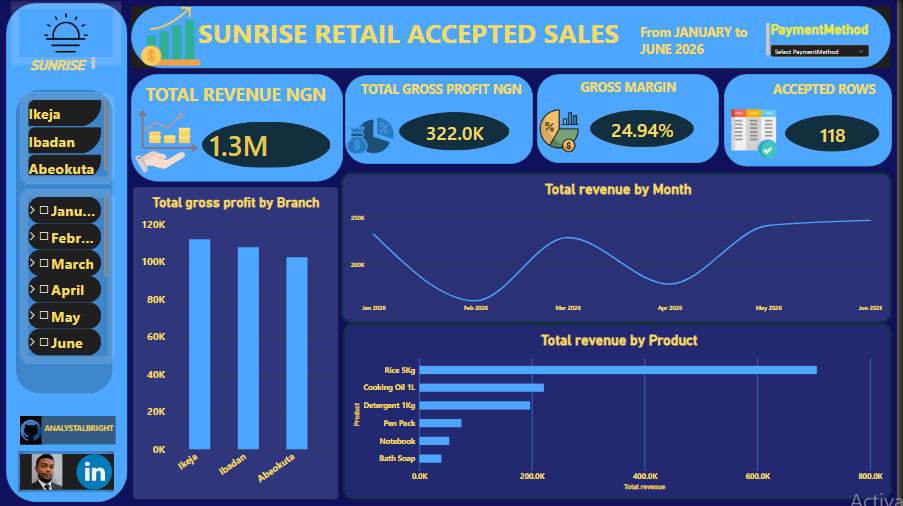

Layout of this report page (visuals, bound fields, positions):
{"tool":"powerbi","page":{"name":"Page 1","canvas":[1920,1080],"ordinal":0},"visuals":[{"type":"shape","box":[25,8.3,258.3,1061.1],"z":0,"group":"g19"},{"type":"shape","box":[289.1,15.2,1615.2,132.6],"z":1,"group":"g20"},{"type":"shape","box":[291,159.7,451.1,228.9],"z":2,"group":"g5"},{"type":"shape","box":[1551.7,160,357.5,196.5],"z":3,"group":"g3"},{"type":"shape","box":[1153.7,159.5,386.7,189.4],"z":4,"group":"g2"},{"type":"shape","box":[746,161,399.7,189.2],"z":5,"group":"g1"},{"type":"textbox","box":[416,34.7,929.1,85],"z":6,"group":"g20"},{"type":"image","box":[52.3,21.7,200,101.6],"z":7,"group":"g15"},{"type":"image","box":[295.6,233.5,142.2,137.8],"z":8,"group":"g5"},{"type":"image","box":[746.5,221,108.9,140],"z":10,"group":"g1"},{"type":"textbox","box":[280.5,177.2,455,99.9],"z":11,"group":"g5"},{"type":"image","box":[1146.8,231.3,107.5,97.3],"z":12,"group":"g2"},{"type":"image","box":[211.1,16.6,325,125],"z":13,"group":"g20"},{"type":"image","box":[1544.4,219.8,138.4,126.7],"z":14,"group":"g3"},{"type":"group","id":"g1","title":"Group 2","box":[746,161,399.7,200],"z":16,"group":"g10"},{"type":"group","id":"g2","title":"Group 3","box":[1146.8,159.5,393.6,189.4],"z":17,"group":"g9"},{"type":"group","id":"g3","title":"Group 4","box":[1544.4,160,364.8,196.5],"z":18,"group":"g8"},{"type":"textbox","box":[780,171.1,375.6,75.6],"z":19,"group":"g10"},{"type":"textbox","box":[1177.5,167.9,340.4,49.8],"z":20,"group":"g9"},{"type":"textbox","box":[1653.9,173.2,229.3,80.6],"z":21,"group":"g8"},{"type":"group","id":"g4","title":"Group 5","box":[1146.8,159.5,393.6,189.4],"z":22,"group":"g7"},{"type":"actionButton","box":[102.6,886.9,156.5,59.7],"z":24,"group":"g14"},{"type":"group","id":"g5","title":"Group 1","box":[280.5,159.7,461.6,228.9],"z":25,"group":"g11"},{"type":"cardVisual","fields":{"Data":["sales.Total revenue"]},"box":[442.2,262.4,273.3,97.8],"z":26,"group":"g11"},{"type":"group","id":"g6","title":"Group 6","box":[280.5,159.7,461.6,228.9],"z":27,"group":"g21"},{"type":"textbox","box":[1372.7,51.7,276.4,78.7],"z":28,"group":"g20"},{"type":"cardVisual","fields":{"Data":["sales.Total gross profit"]},"box":[860,240,235.6,82.2],"z":29,"group":"g10"},{"type":"cardVisual","fields":{"Data":["sales.Gross margin"]},"box":[1265,235.3,221.7,79.2],"z":30,"group":"g7"},{"type":"cardVisual","fields":{"Data":["sales.Accepted rows"]},"box":[1680.1,247.7,202,78.9],"z":31,"group":"g8"},{"type":"image","box":[55.5,886.3,46.4,60.7],"z":33,"group":"g14"},{"type":"clusteredBarChart","fields":{"Category":["sales.Product"],"Y":["sales.Total revenue"]},"box":[742.2,688.9,1166.7,375.6],"z":34,"group":"g21"},{"type":"shape","box":[46.7,194.1,205.4,644.6],"z":35,"group":"g17"},{"type":"lineChart","title":"Total revenue by Month","fields":{"Category":["sales.MonthStart"],"Y":["sales.Total revenue"]},"box":[737.8,366.6,1171.1,322.2],"z":36,"group":"g21"},{"type":"group","id":"g7","title":"Group 7","box":[1146.8,159.5,393.6,189.4],"z":37,"group":"g21"},{"type":"group","id":"g8","title":"Group 8","box":[1544.4,160,364.4,197.8],"z":38,"group":"g21"},{"type":"group","id":"g9","title":"Group 9","box":[1146.8,159.5,393.6,189.4],"z":39,"group":"g4"},{"type":"group","id":"g10","title":"Group 10","box":[746,161,409.6,200],"z":39,"group":"g21"},{"type":"group","id":"g11","title":"Group 11","box":[280.5,159.7,461.6,228.9],"z":40,"group":"g6"},{"type":"clusteredColumnChart","fields":{"Category":["sales.Branch"],"Y":["sales.Total gross profit"]},"box":[295.7,400,436.2,663.8],"z":40,"group":"g21"},{"type":"listSlicer","fields":{"Values":["sales.Branch"]},"box":[54.4,199.1,204.3,195.7],"z":41,"group":"g16"},{"type":"listSlicer","fields":{"Values":["sales.MonthStart.Variation.Date Hierarchy.Month","sales.MonthStart.Variation.Date Hierarchy.Day"]},"box":[54.4,405.2,204.1,372],"z":42,"group":"g16"},{"type":"shape","box":[50,961.1,204.1,87.2],"z":43,"group":"g12"},{"type":"image","box":[53.4,967,114.8,76],"z":44,"group":"g12"},{"type":"group","id":"g12","title":"Group 12","box":[50,961.1,204.1,87.2],"z":45,"group":"g13"},{"type":"image","box":[169.1,966.7,85,76],"z":46,"group":"g13"},{"type":"listSlicer","fields":{"Values":["sales.PaymentMethod"]},"box":[1634.2,34.7,242.4,95.7],"z":47,"group":"g20"},{"type":"group","id":"g13","title":"Group 13","box":[50,961.1,202.8,86.1],"z":48,"group":"g19"},{"type":"textbox","box":[101.6,880.6,156.5,50],"z":49,"group":"g14"},{"type":"textbox","box":[74.9,123.3,138.7,29],"z":50,"group":"g15"},{"type":"group","id":"g14","title":"Group 14","box":[55.5,880.6,202.8,66.7],"z":51,"group":"g18"},{"type":"group","id":"g15","title":"Group 15","box":[52.3,21.7,200,130.6],"z":52,"group":"g18"},{"type":"group","id":"g16","title":"Group 16","box":[54.4,199.1,204.3,578.1],"z":53,"group":"g17"},{"type":"group","id":"g17","title":"Group 17","box":[46.7,194.1,212,644.6],"z":54,"group":"g18"},{"type":"group","id":"g18","title":"Group 18","box":[46.7,21.7,212,925.5],"z":55,"group":"g19"},{"type":"group","id":"g19","title":"Group 19","box":[25,8.3,258.3,1061.1],"z":56,"group":"g21"},{"type":"group","id":"g20","title":"Group 20","box":[211.1,15.2,1693.2,132.6],"z":57,"group":"g21"},{"type":"group","id":"g21","title":"Group 21","box":[25,8.3,1883.9,1061.1],"z":58}]}

Visuals, with their boxes in screenshot pixels (x1, y1, x2, y2), scaled from the page's 1920x1080 canvas onto the 903x506 screenshot:
shape: x1=12 y1=4 x2=133 y2=501
shape: x1=136 y1=7 x2=896 y2=69
shape: x1=137 y1=75 x2=349 y2=182
shape: x1=730 y1=75 x2=898 y2=167
shape: x1=543 y1=75 x2=724 y2=163
shape: x1=351 y1=75 x2=539 y2=164
textbox: x1=196 y1=16 x2=633 y2=56
image: x1=25 y1=10 x2=119 y2=58
image: x1=139 y1=109 x2=206 y2=174
image: x1=351 y1=104 x2=402 y2=169
textbox: x1=132 y1=83 x2=346 y2=130
image: x1=539 y1=108 x2=590 y2=154
image: x1=99 y1=8 x2=252 y2=66
image: x1=726 y1=103 x2=791 y2=162
"Group 2" group: x1=351 y1=75 x2=539 y2=169
"Group 3" group: x1=539 y1=75 x2=724 y2=163
"Group 4" group: x1=726 y1=75 x2=898 y2=167
textbox: x1=367 y1=80 x2=543 y2=116
textbox: x1=554 y1=79 x2=714 y2=102
textbox: x1=778 y1=81 x2=886 y2=119
"Group 5" group: x1=539 y1=75 x2=724 y2=163
actionButton: x1=48 y1=416 x2=122 y2=443
"Group 1" group: x1=132 y1=75 x2=349 y2=182
cardVisual - sales.Total revenue: x1=208 y1=123 x2=337 y2=169
"Group 6" group: x1=132 y1=75 x2=349 y2=182
textbox: x1=646 y1=24 x2=776 y2=61
cardVisual - sales.Total gross profit: x1=404 y1=112 x2=515 y2=151
cardVisual - sales.Gross margin: x1=595 y1=110 x2=699 y2=147
cardVisual - sales.Accepted rows: x1=790 y1=116 x2=885 y2=153
image: x1=26 y1=415 x2=48 y2=444
clusteredBarChart - sales.Product x sales.Total revenue: x1=349 y1=323 x2=898 y2=499
shape: x1=22 y1=91 x2=119 y2=393
"Total revenue by Month" lineChart: x1=347 y1=172 x2=898 y2=323
"Group 7" group: x1=539 y1=75 x2=724 y2=163
"Group 8" group: x1=726 y1=75 x2=898 y2=168
"Group 9" group: x1=539 y1=75 x2=724 y2=163
"Group 10" group: x1=351 y1=75 x2=543 y2=169
"Group 11" group: x1=132 y1=75 x2=349 y2=182
clusteredColumnChart - sales.Branch x sales.Total gross profit: x1=139 y1=187 x2=344 y2=498
listSlicer - sales.Branch: x1=26 y1=93 x2=122 y2=185
listSlicer - sales.MonthStart.Variation.Date Hierarchy.Month x sales.MonthStart.Variation.Date Hierarchy.Day: x1=26 y1=190 x2=122 y2=364
shape: x1=24 y1=450 x2=120 y2=491
image: x1=25 y1=453 x2=79 y2=489
"Group 12" group: x1=24 y1=450 x2=120 y2=491
image: x1=80 y1=453 x2=120 y2=489
listSlicer - sales.PaymentMethod: x1=769 y1=16 x2=883 y2=61
"Group 13" group: x1=24 y1=450 x2=119 y2=491
textbox: x1=48 y1=413 x2=121 y2=436
textbox: x1=35 y1=58 x2=100 y2=71
"Group 14" group: x1=26 y1=413 x2=121 y2=444
"Group 15" group: x1=25 y1=10 x2=119 y2=71
"Group 16" group: x1=26 y1=93 x2=122 y2=364
"Group 17" group: x1=22 y1=91 x2=122 y2=393
"Group 18" group: x1=22 y1=10 x2=122 y2=444
"Group 19" group: x1=12 y1=4 x2=133 y2=501
"Group 20" group: x1=99 y1=7 x2=896 y2=69
"Group 21" group: x1=12 y1=4 x2=898 y2=501
